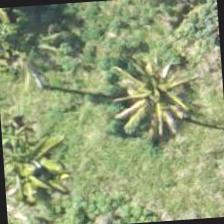Kelapa_Sawit: (111, 44, 207, 140), (1, 116, 72, 210)
